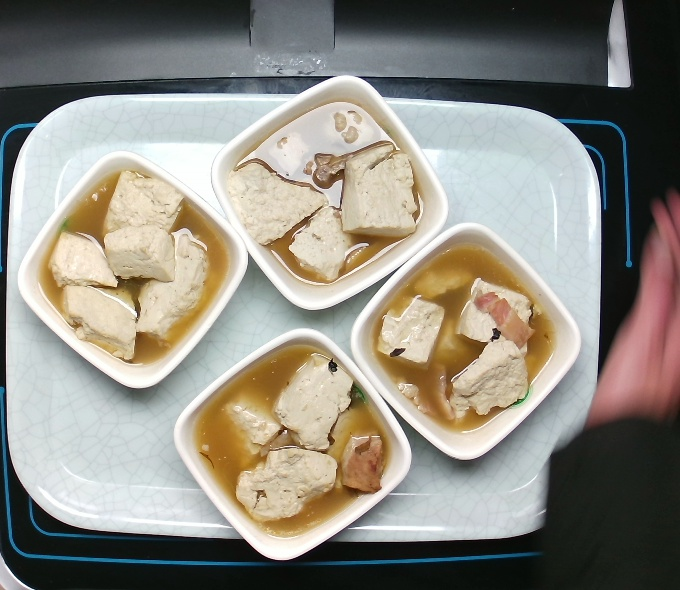wcq-DouFuRouTang: (34, 169, 227, 359), (227, 100, 420, 290), (363, 244, 556, 434), (194, 348, 387, 538)
